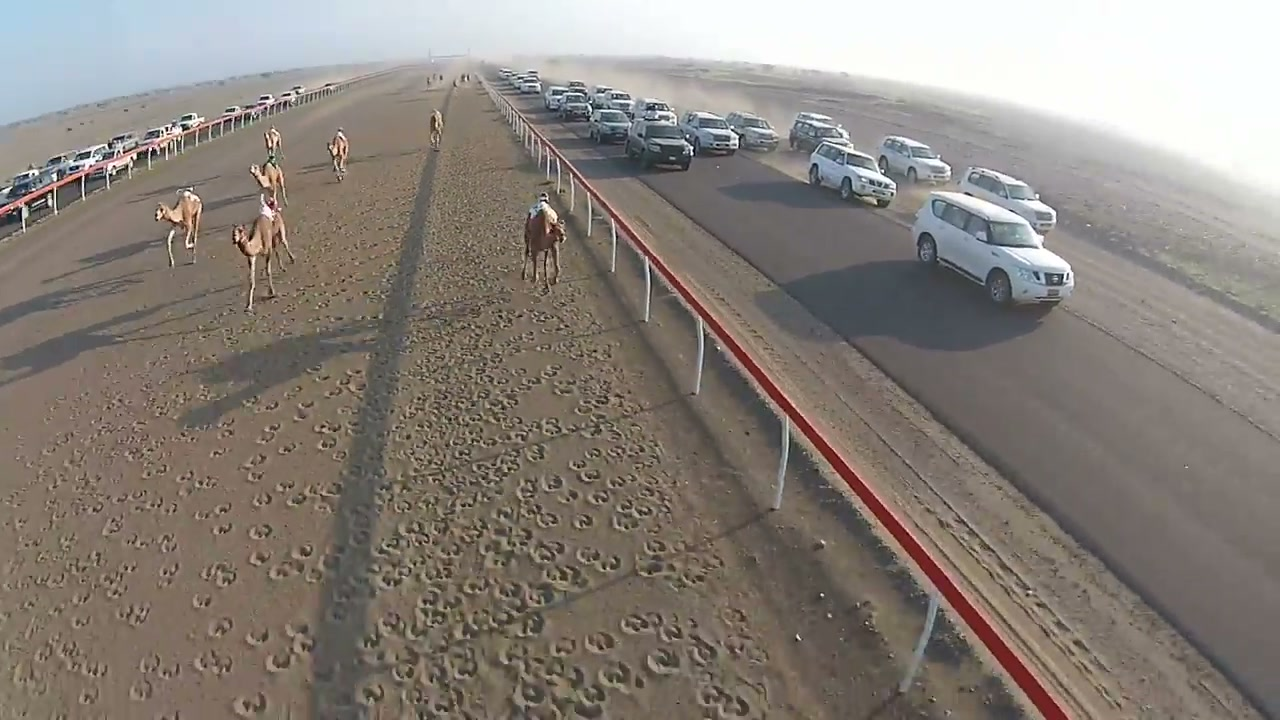animal_footprint: (0, 94, 785, 718)
